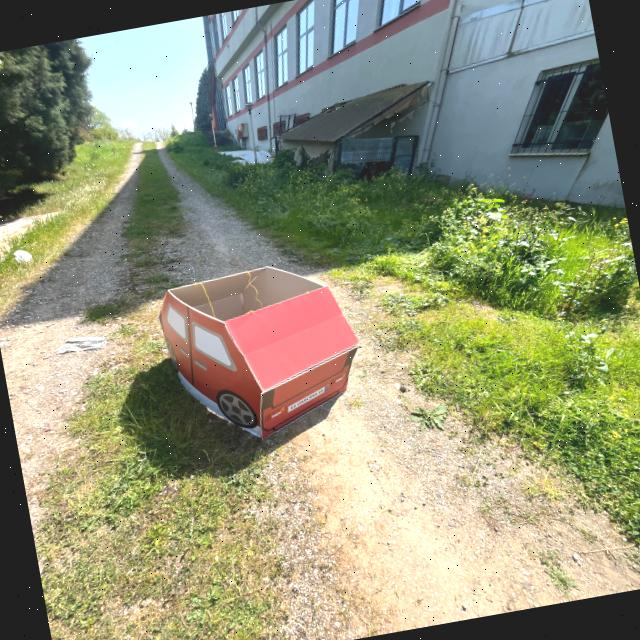red_car: (144, 244, 384, 487)
